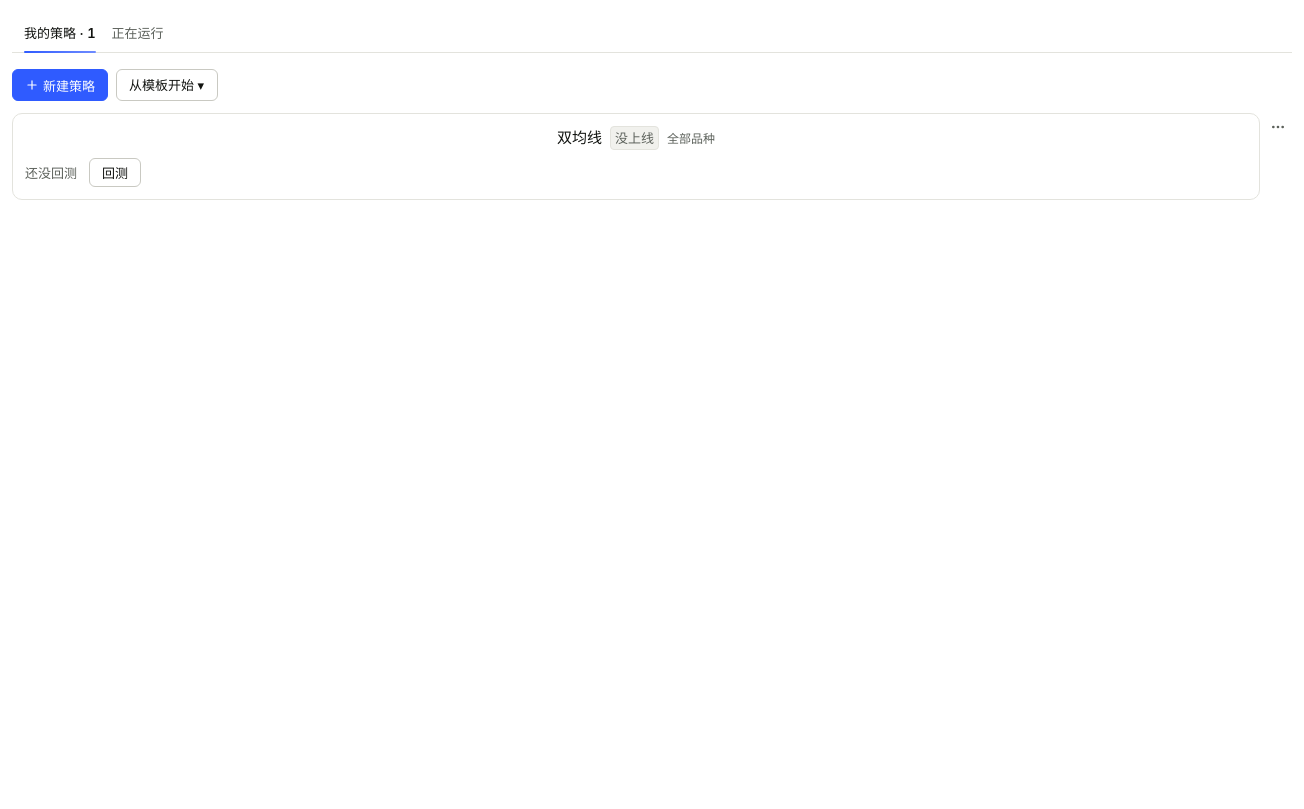
Test case: 策略体检：详情顶部警示块列出各条件次数、标出卡住的条件；按这个改存新版本并重跑回测
Click the button with aria-label "双均线 · ": click(636, 138) [25, 126, 1247, 150]
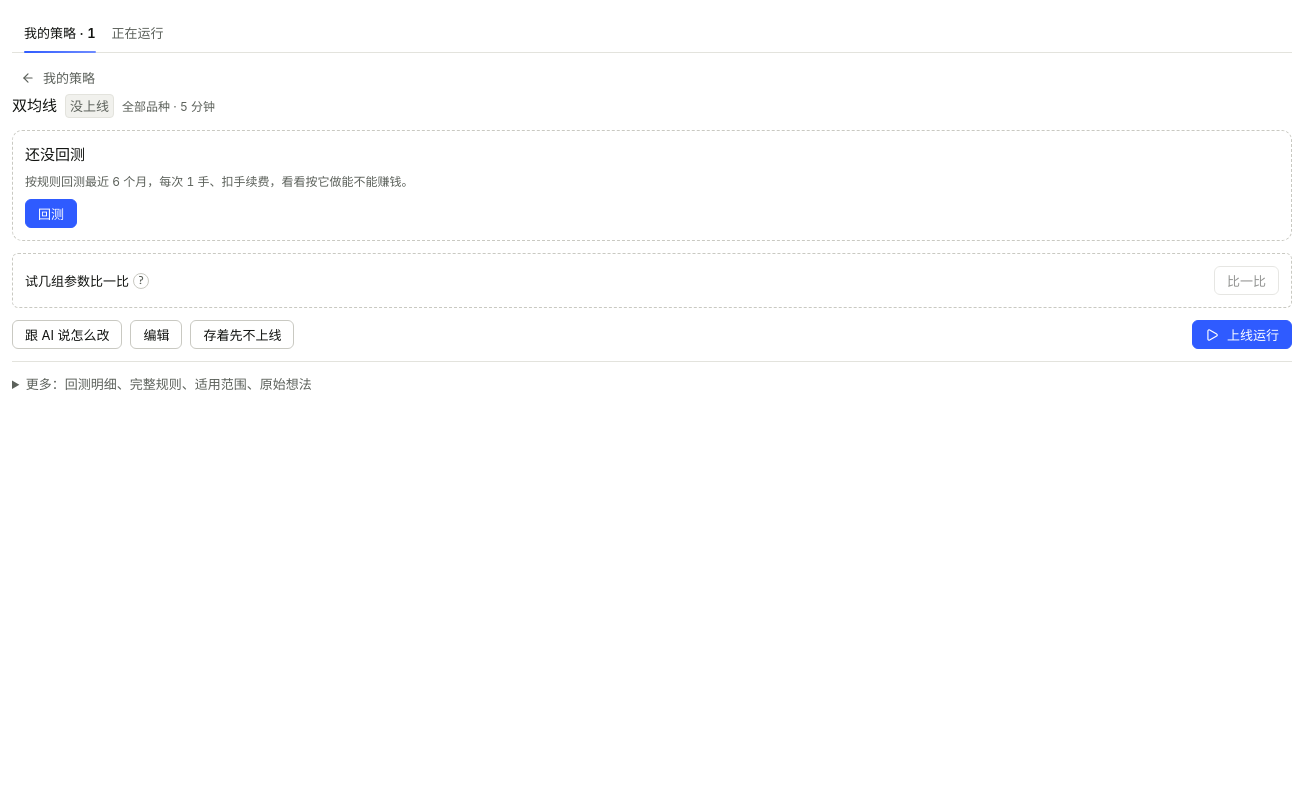
Click the button "回测": click(51, 214) [25, 199, 77, 228]
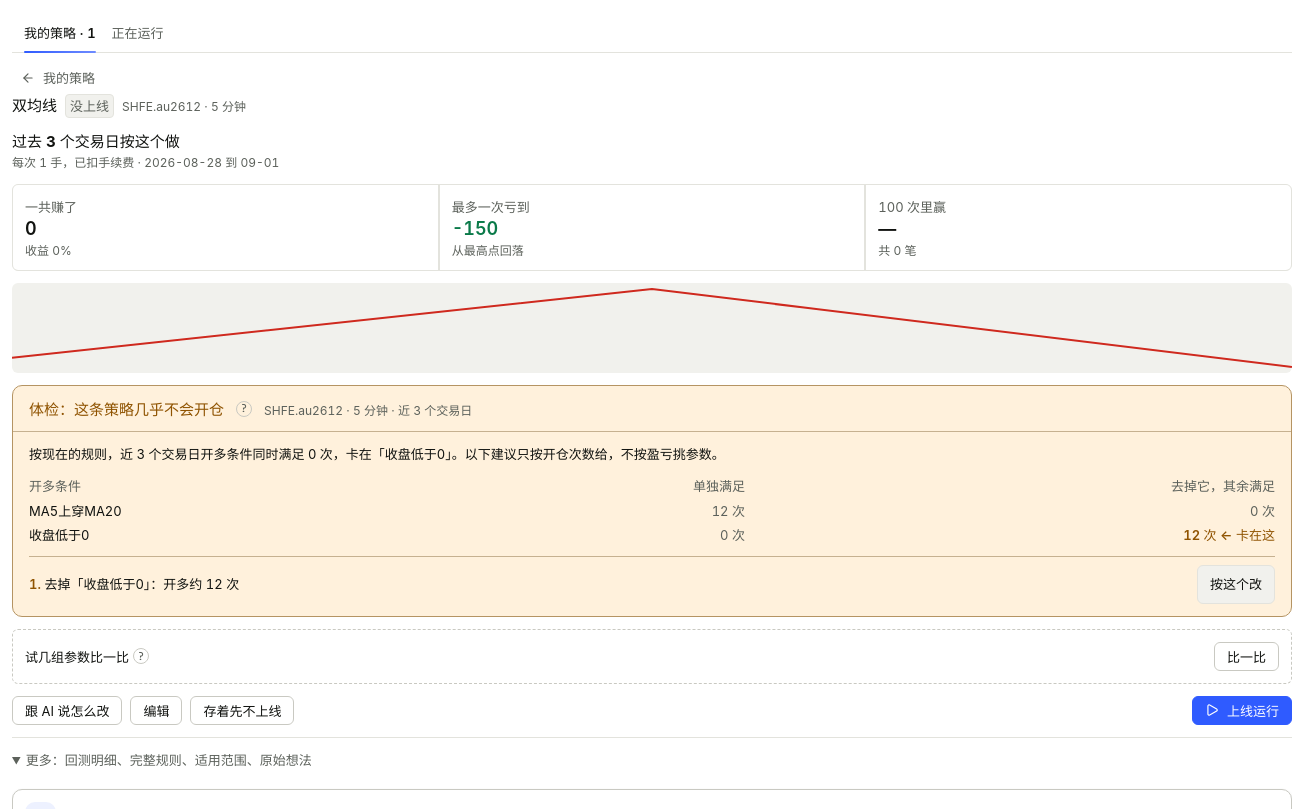
Result: the heading "体检：这条策略几乎不会开仓" is shown at [29, 398, 224, 419]
Result: the element with test id "strategy-health" shows "SHFE.au2612 · 5 分钟 · 近 3 个交易日" at [264, 403, 472, 418]
Result: the element with test id "strategy-health" shows "按现在的规则，近 3 个交易日开多条件同时满足 0 次，卡在「收盘低于0」。以下建议只按开仓次数给，不按盈亏挑参数。" at [29, 446, 725, 462]
Click the button named "体检的说明": click(244, 409) [236, 401, 252, 417]
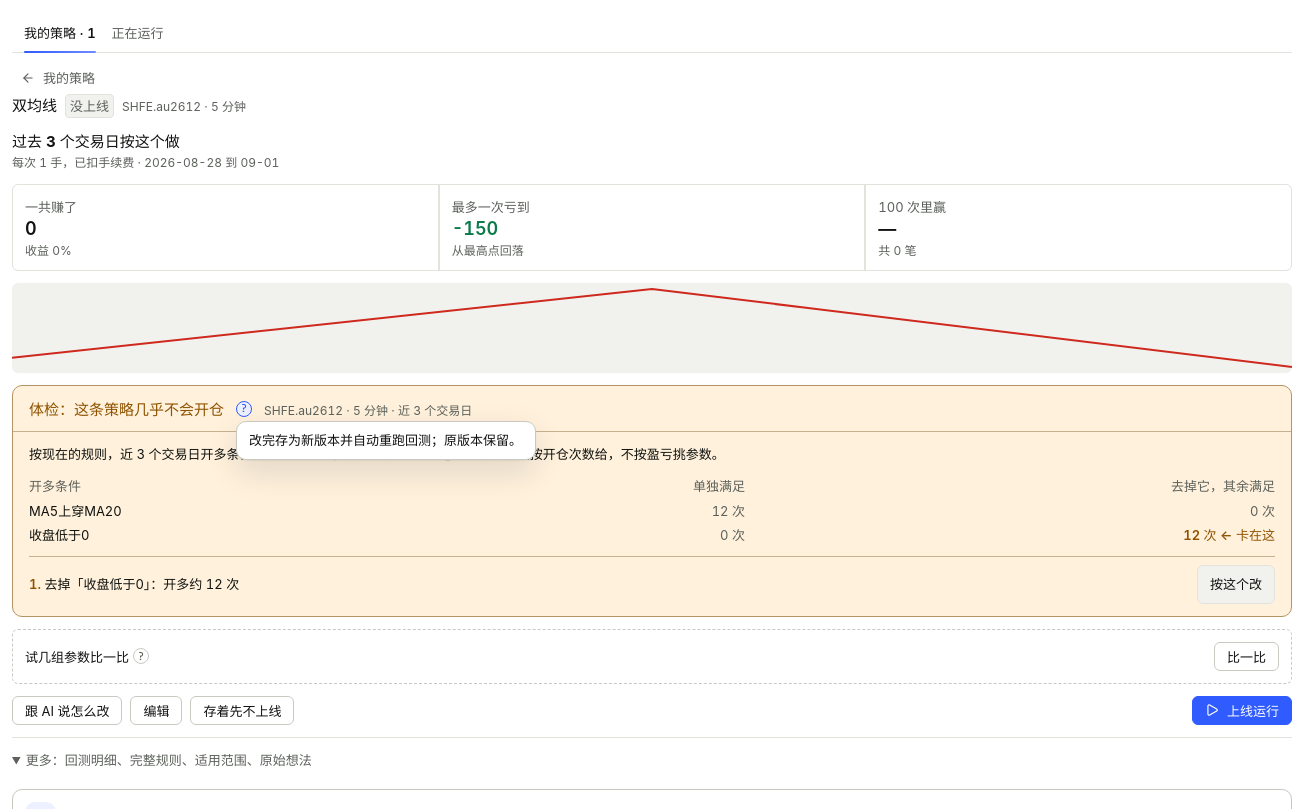
Result: the tooltip reads "改完存为新版本并自动重跑回测；原版本保留。" at [249, 432, 522, 448]
Click the button "按这个改": click(1236, 584) [1197, 565, 1275, 604]
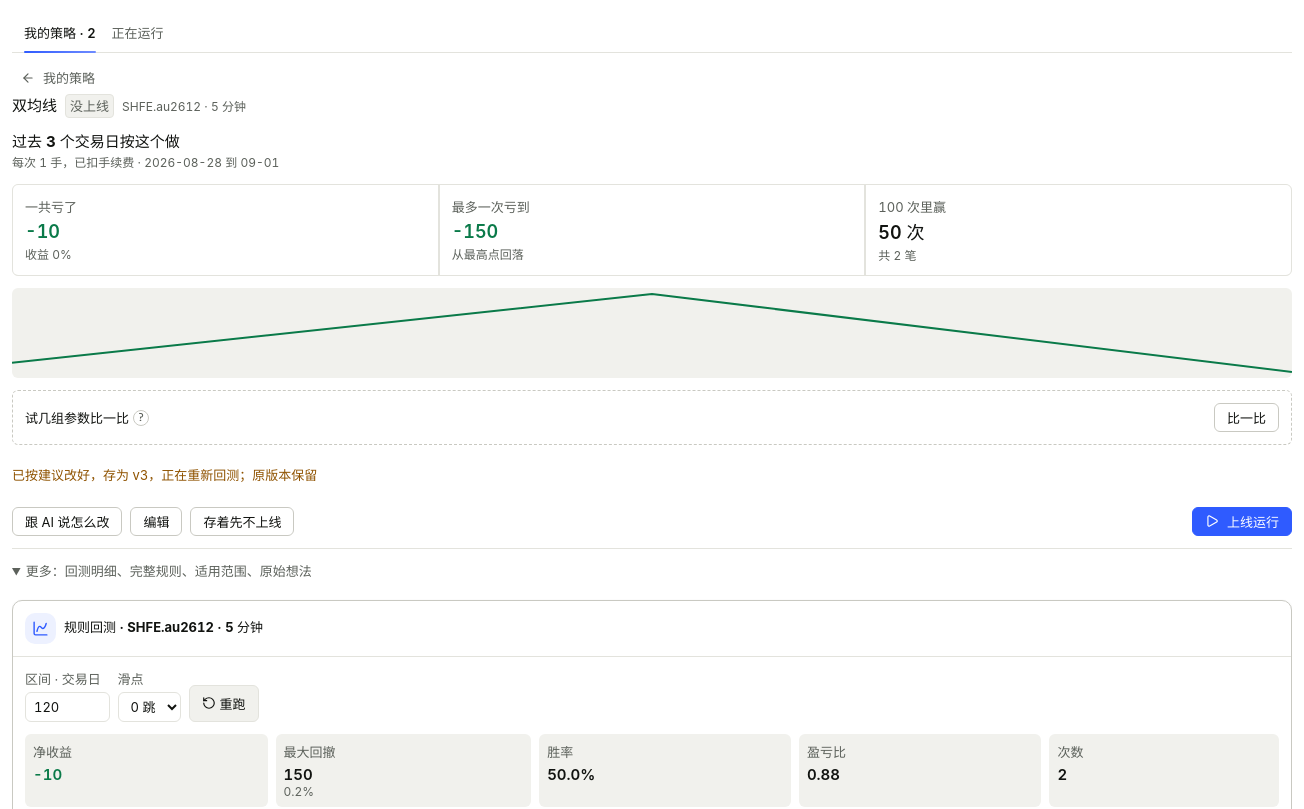
Result: the element with test id "strategy-health" is gone
